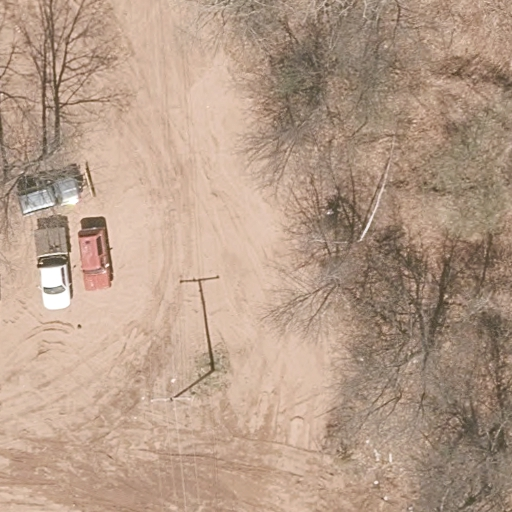DT: (150, 366, 217, 407)
